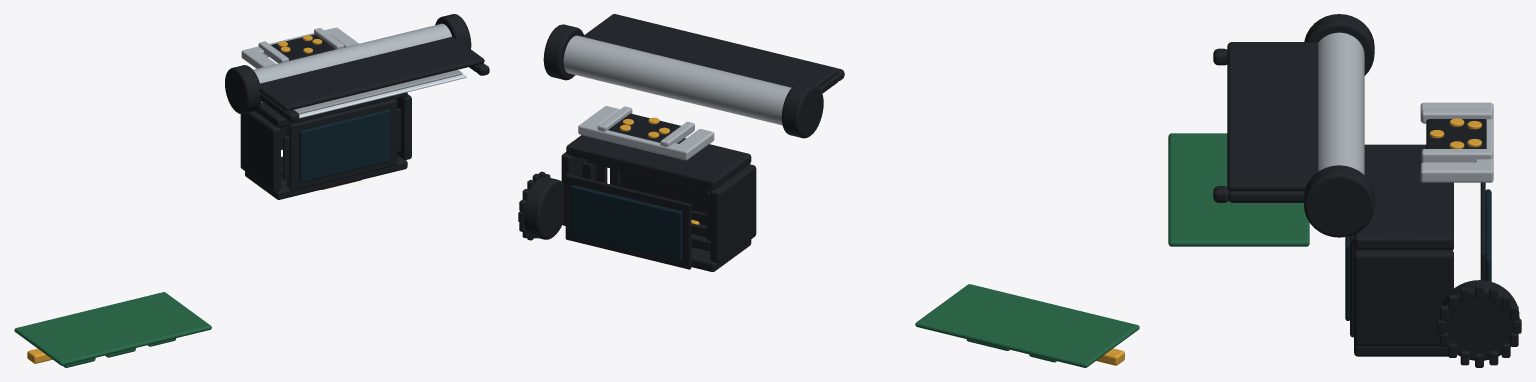
Rendered from 06_evf_top_flash.glb.
The picture shows the model from 3 angles, left to right: view 1: azimuth 30°, elevation 25°; view 2: azimuth 150°, elevation 25°; view 3: azimuth 270°, elevation 25°; orthographic projection. The views are drawn at different scales.
Visible parts, largest first — view 1: Z50II-06-010_top_control_pcb.001, Z50II_flash_head_top.001, Z50II-06-002_evf_display.001, Z50II-06-009_flash_hinge.001, Z50II-06-001_evf_housing_left.001, Z50II_evf_display_carrier.001, Z50II_flash_hinge_left_bearing.001, Z50II-06-001_evf_housing_bottom.001, Z50II-06-008_flash_reflector.001, Z50II-06-001_evf_housing.001, Z50II_flash_diffuser.001, Z50II-06-001_evf_housing_right.001 (+3 smaller); view 2: Z50II-06-010_top_control_pcb.001, Z50II-06-009_flash_hinge.001, Z50II_flash_head_top.001, Z50II-06-003_evf_eyepiece_lens.001, Z50II-06-001_evf_housing.001, Z50II-06-001_evf_housing_left.001, Z50II_evf_eyepiece_mask.001, Z50II-06-004_diopter_wheel.001, Z50II_flash_hinge_left_bearing.001, Z50II_evf_display_carrier.001, Z50II_hot_shoe_rear_bridge.001, Z50II_flash_hinge_right_bearing.001 (+4 smaller); view 3: Z50II_flash_head_top.001, Z50II-06-010_top_control_pcb.001, Z50II-06-001_evf_housing_right.001, Z50II-06-001_evf_housing.001, Z50II-06-009_flash_hinge.001, Z50II_flash_hinge_right_bearing.001, Z50II-06-004_diopter_wheel.001, Z50II_flash_hinge_left_bearing.001, Z50II_hot_shoe_right_rail.001, Z50II-06-006_hot_shoe_contact_plate.001, Z50II-06-001_evf_housing_bottom.001, Z50II_hot_shoe_right_return.001 (+8 smaller).
Part boxes in pixels (x1,y1,x2,y2): Z50II-06-010_top_control_pcb.001: [14, 292, 211, 365]; Z50II_flash_head_top.001: [259, 37, 484, 111]; Z50II-06-002_evf_display.001: [299, 109, 390, 182]; Z50II-06-009_flash_hinge.001: [253, 23, 451, 102]; Z50II-06-001_evf_housing_left.001: [240, 111, 280, 191]; Z50II_evf_display_carrier.001: [289, 99, 397, 190]; Z50II_flash_hinge_left_bearing.001: [225, 65, 261, 114]; Z50II-06-001_evf_housing_bottom.001: [245, 155, 407, 199]; Z50II-06-008_flash_reflector.001: [294, 69, 462, 114]; Z50II-06-001_evf_housing.001: [255, 92, 407, 127]; Z50II_flash_diffuser.001: [299, 73, 466, 118]; Z50II-06-001_evf_housing_right.001: [396, 94, 411, 159]; Z50II-06-010_top_control_pcb.001: [915, 284, 1139, 367]; Z50II-06-009_flash_hinge.001: [563, 35, 791, 125]; Z50II_flash_head_top.001: [584, 14, 838, 87]; Z50II-06-003_evf_eyepiece_lens.001: [570, 185, 682, 261]; Z50II-06-001_evf_housing.001: [566, 135, 751, 190]; Z50II-06-001_evf_housing_left.001: [710, 164, 756, 262]; Z50II_evf_eyepiece_mask.001: [565, 174, 691, 269]; Z50II-06-004_diopter_wheel.001: [523, 177, 563, 239]; Z50II_flash_hinge_left_bearing.001: [781, 82, 823, 138]; Z50II_evf_display_carrier.001: [620, 170, 707, 225]; Z50II_hot_shoe_rear_bridge.001: [579, 121, 693, 158]; Z50II_flash_hinge_right_bearing.001: [543, 24, 584, 80]; Z50II_flash_head_top.001: [1227, 42, 1318, 191]; Z50II-06-010_top_control_pcb.001: [1168, 133, 1309, 246]; Z50II-06-001_evf_housing_right.001: [1354, 249, 1453, 346]; Z50II-06-001_evf_housing.001: [1354, 144, 1453, 249]; Z50II-06-009_flash_hinge.001: [1318, 32, 1364, 174]; Z50II_flash_hinge_right_bearing.001: [1304, 165, 1374, 237]; Z50II-06-004_diopter_wheel.001: [1439, 280, 1519, 360]; Z50II_flash_hinge_left_bearing.001: [1304, 14, 1374, 75]; Z50II_hot_shoe_right_rail.001: [1420, 162, 1493, 182]; Z50II-06-006_hot_shoe_contact_plate.001: [1426, 119, 1486, 148]; Z50II-06-001_evf_housing_bottom.001: [1354, 343, 1448, 356]; Z50II_hot_shoe_right_return.001: [1421, 149, 1492, 162].
Size of the model in its own units: 0.0673 by 0.029 by 0.03.
